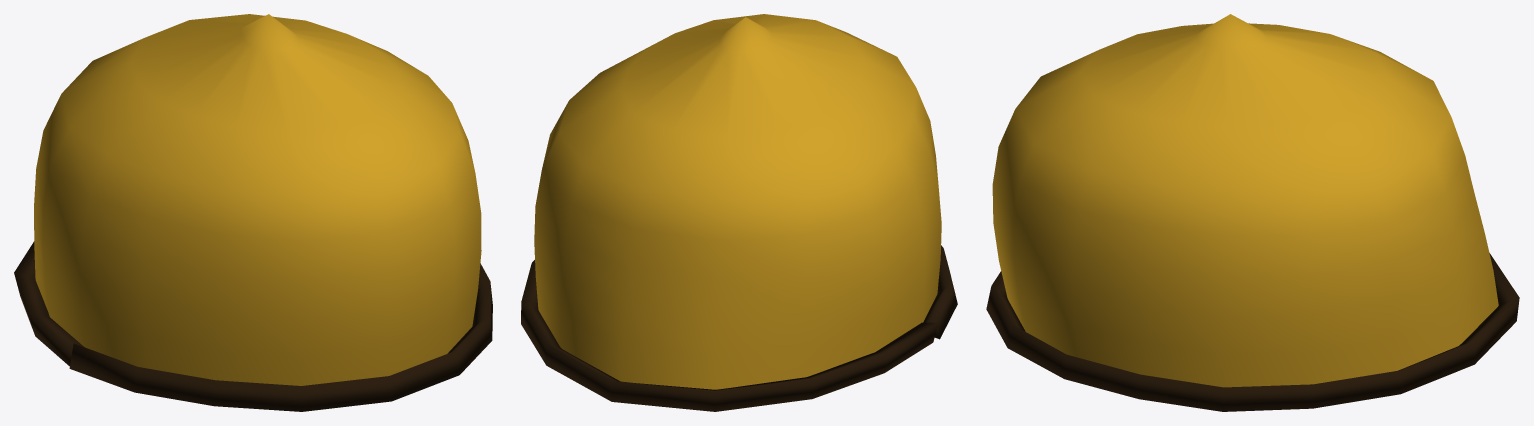
File: bee_headgear.glb
3 views of the same model, side by side, from view 1: azimuth 30°, elevation 25°; view 2: azimuth 150°, elevation 25°; view 3: azimuth 270°, elevation 25° (orthographic). The views are drawn at different scales.
Visible parts, largest first — view 1: bee_headgear_head; view 2: bee_headgear_head; view 3: bee_headgear_head.
Boxes of the visible parts, box(x1,y1,x2,y2) form: bee_headgear_head: box(14, 14, 492, 411); bee_headgear_head: box(521, 14, 957, 411); bee_headgear_head: box(986, 14, 1519, 411).
Bounding box in the file's own units: 0.2443 × 0.1781 × 0.2801.
